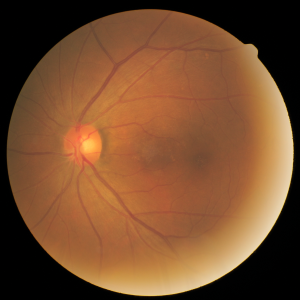retina_disease: (30, 96, 235, 213)
